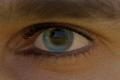eye: (44, 28, 74, 52)
